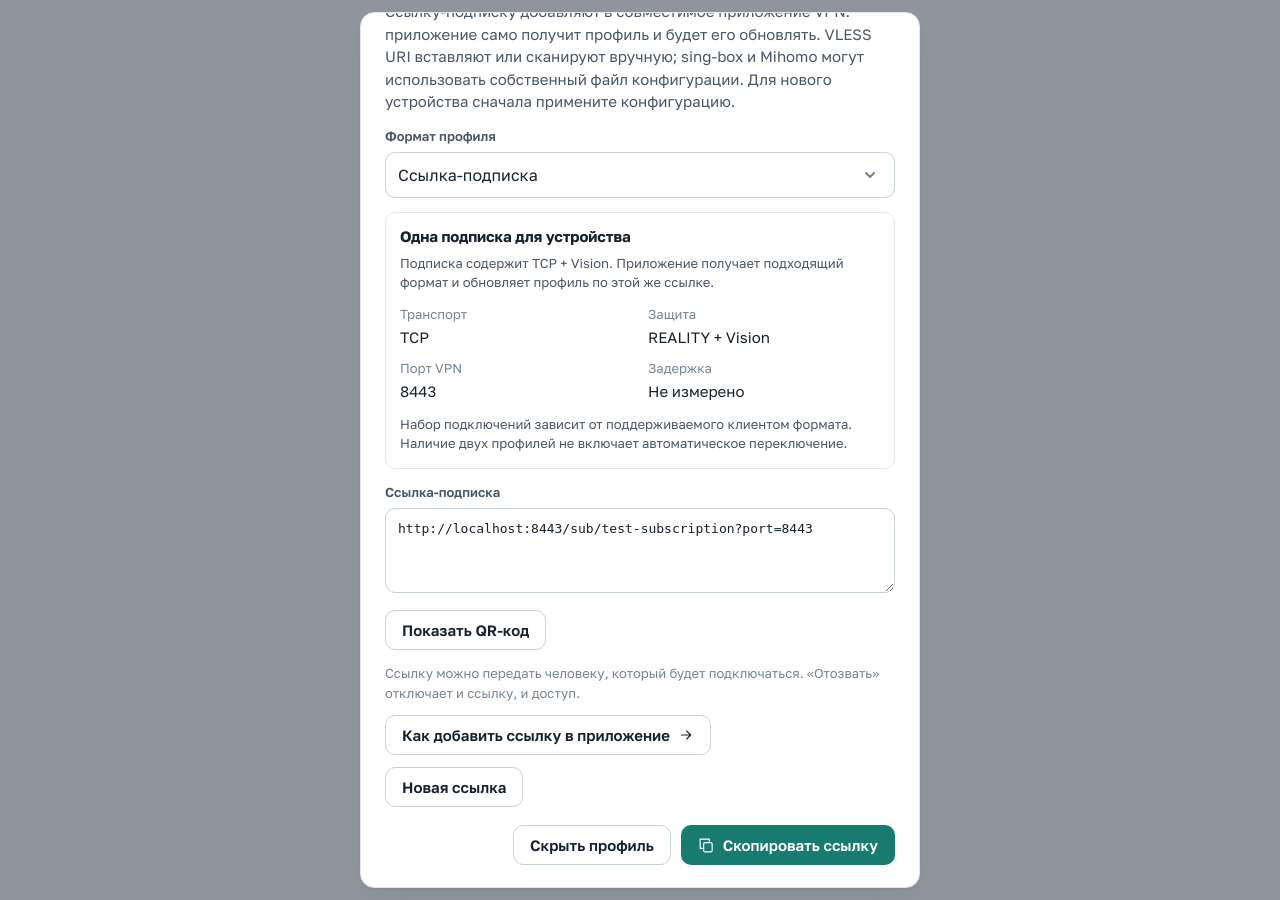
Test case: keeps port 8443 after rotating a legacy subscription link
(page scrolled)
Click the button "Новая ссылка": (454, 787) [385,767,523,807]
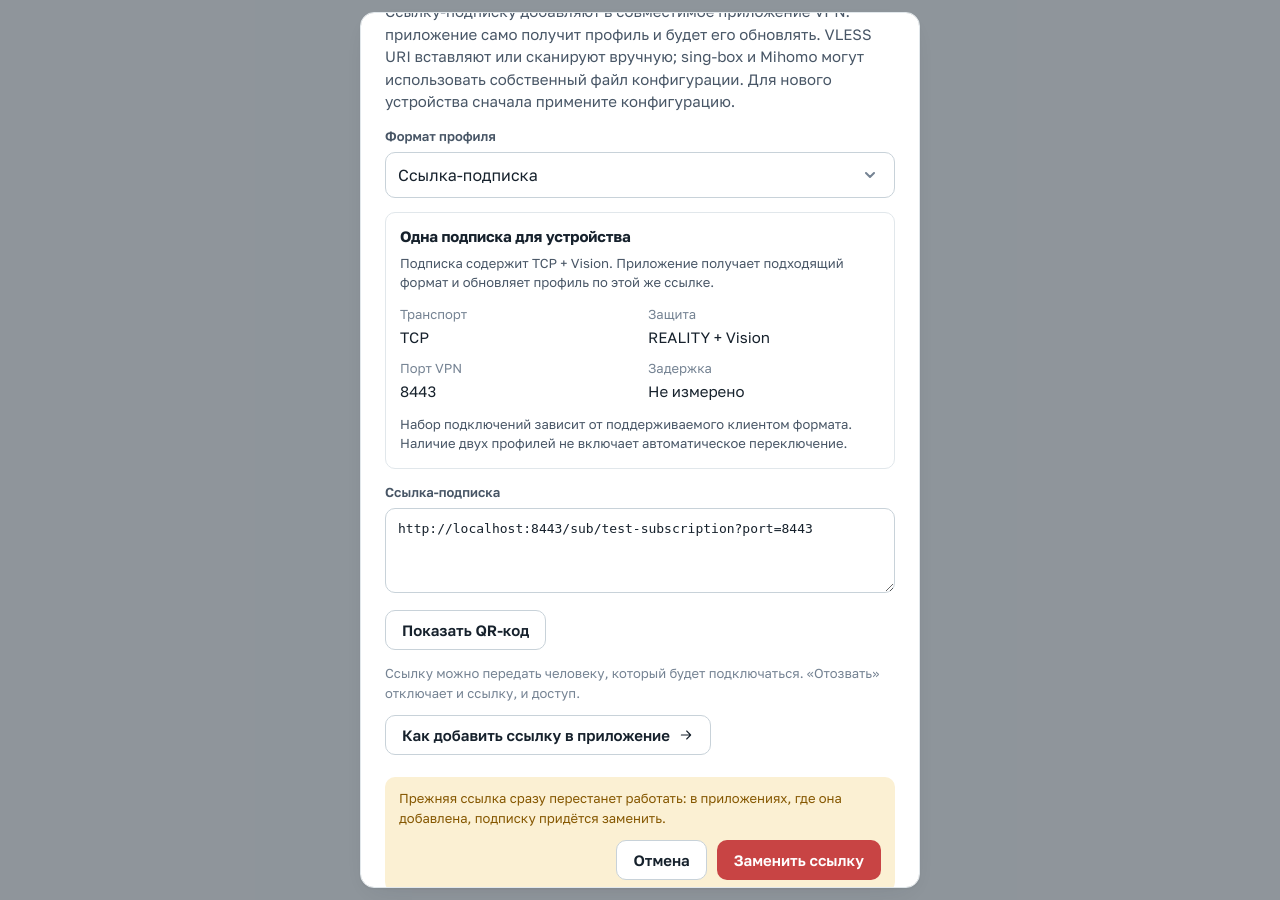
Click the button "Заменить ссылку": (799, 860) [717,840,881,880]
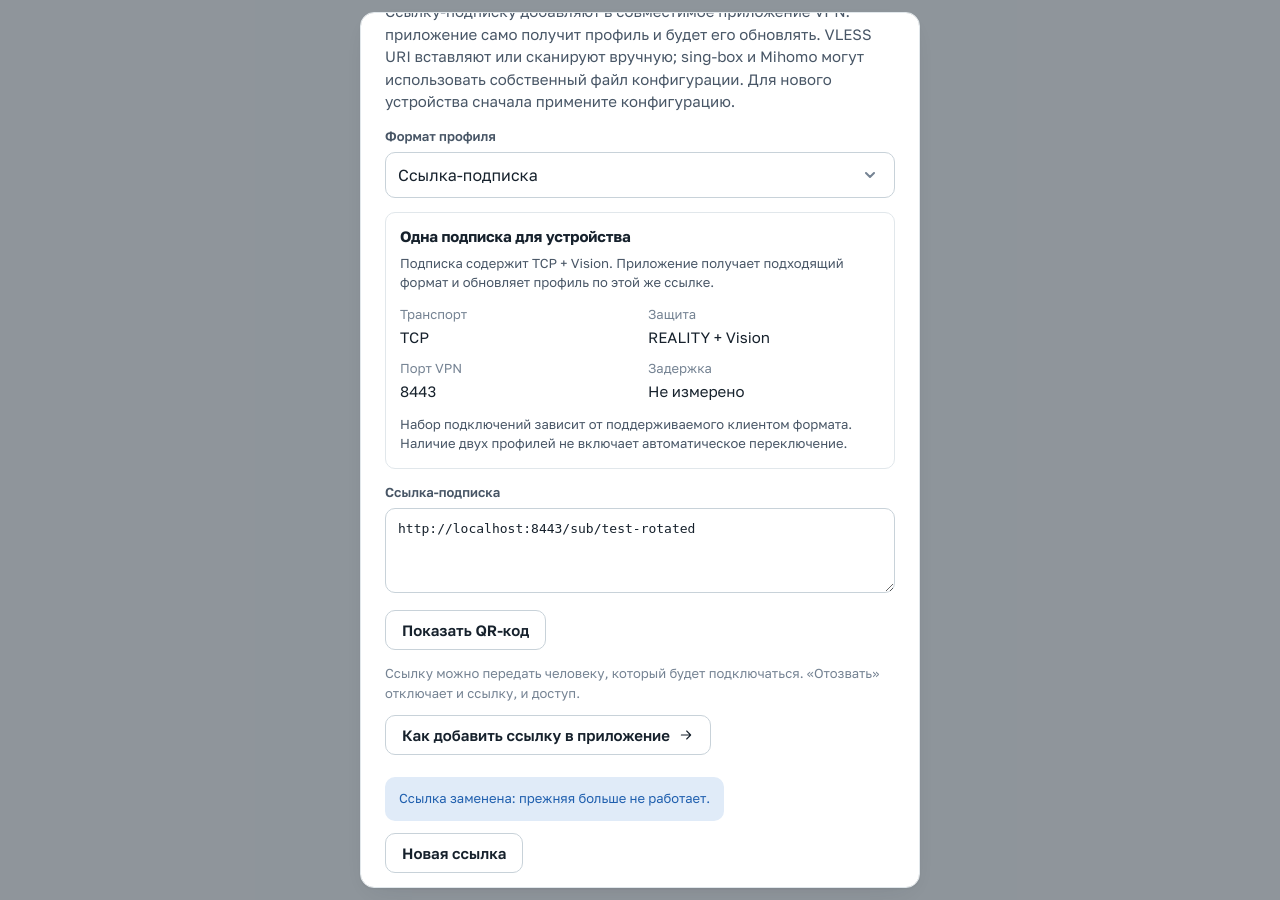
Expected: the text "Ссылка заменена: прежняя больше не работает." is shown, [385,777,724,821]
